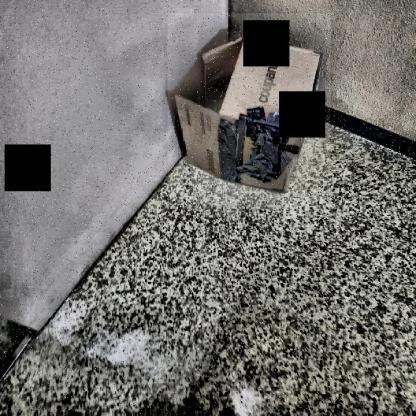-: (168, 14, 331, 208)
